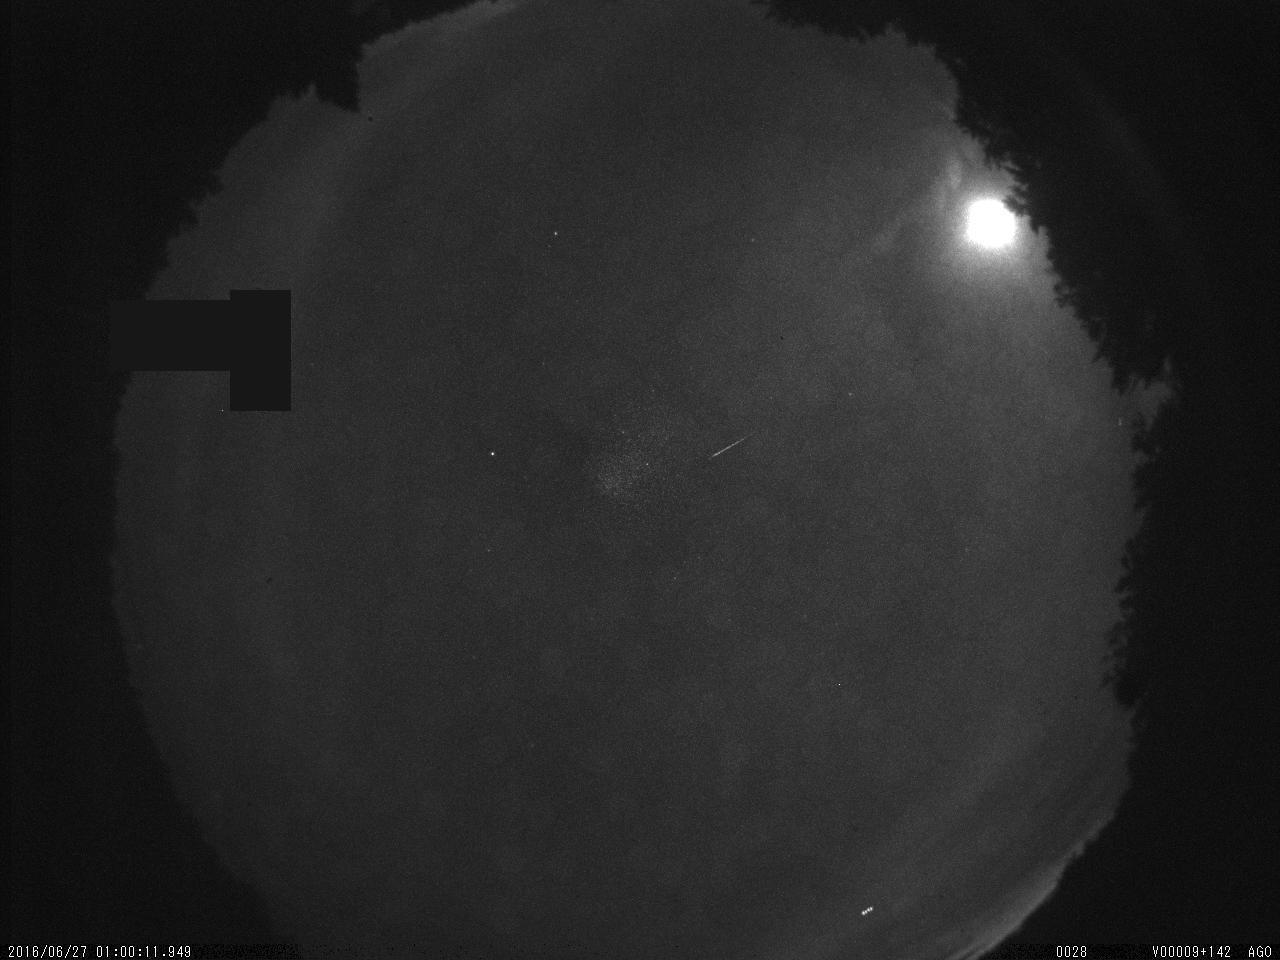meteor: (702, 425, 761, 465)
